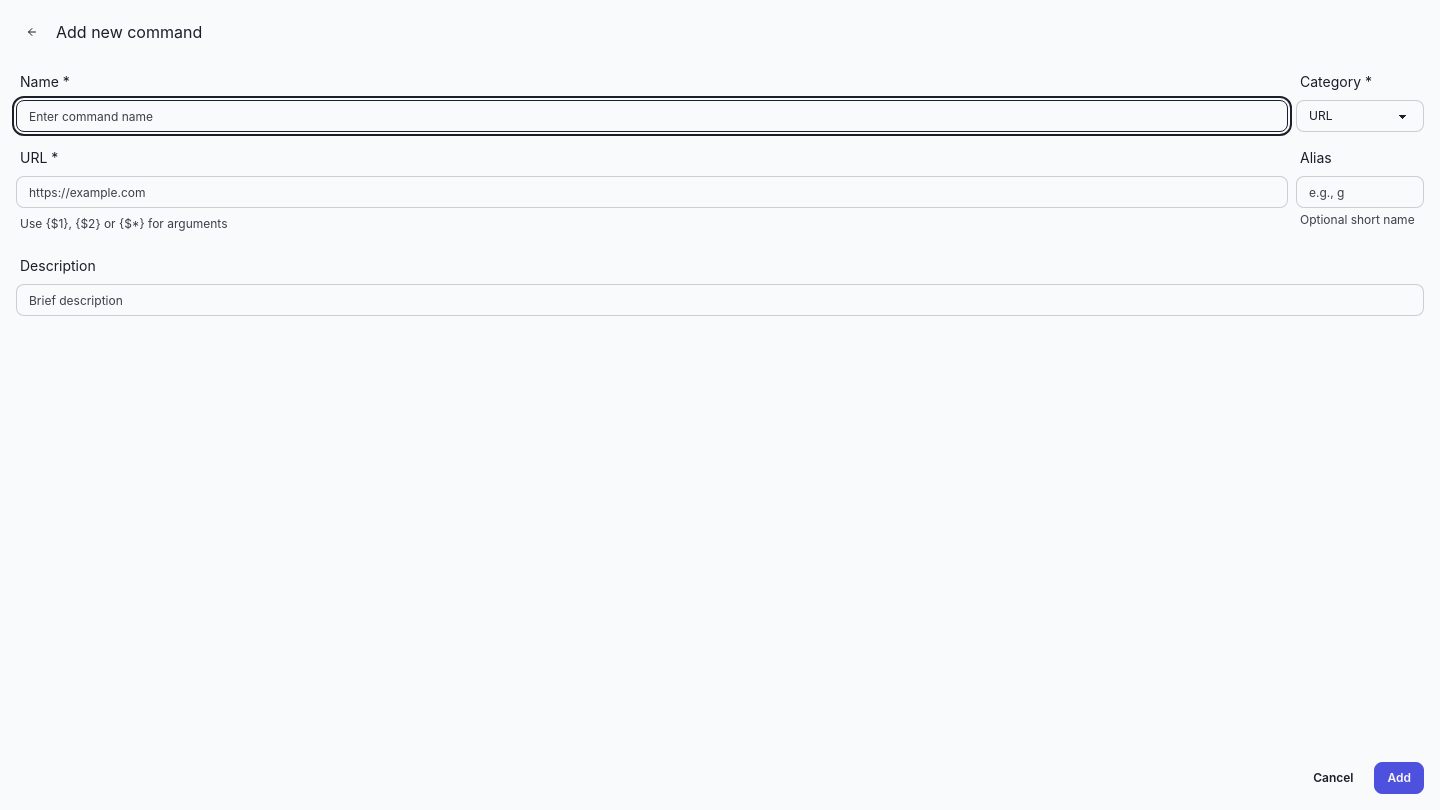
Test: CommandForm leaving › asks before throwing away edits, and Keep editing stays
Type "x" into the field labelled "Name *" at coordinates (652, 116), box [16,100,1288,132]
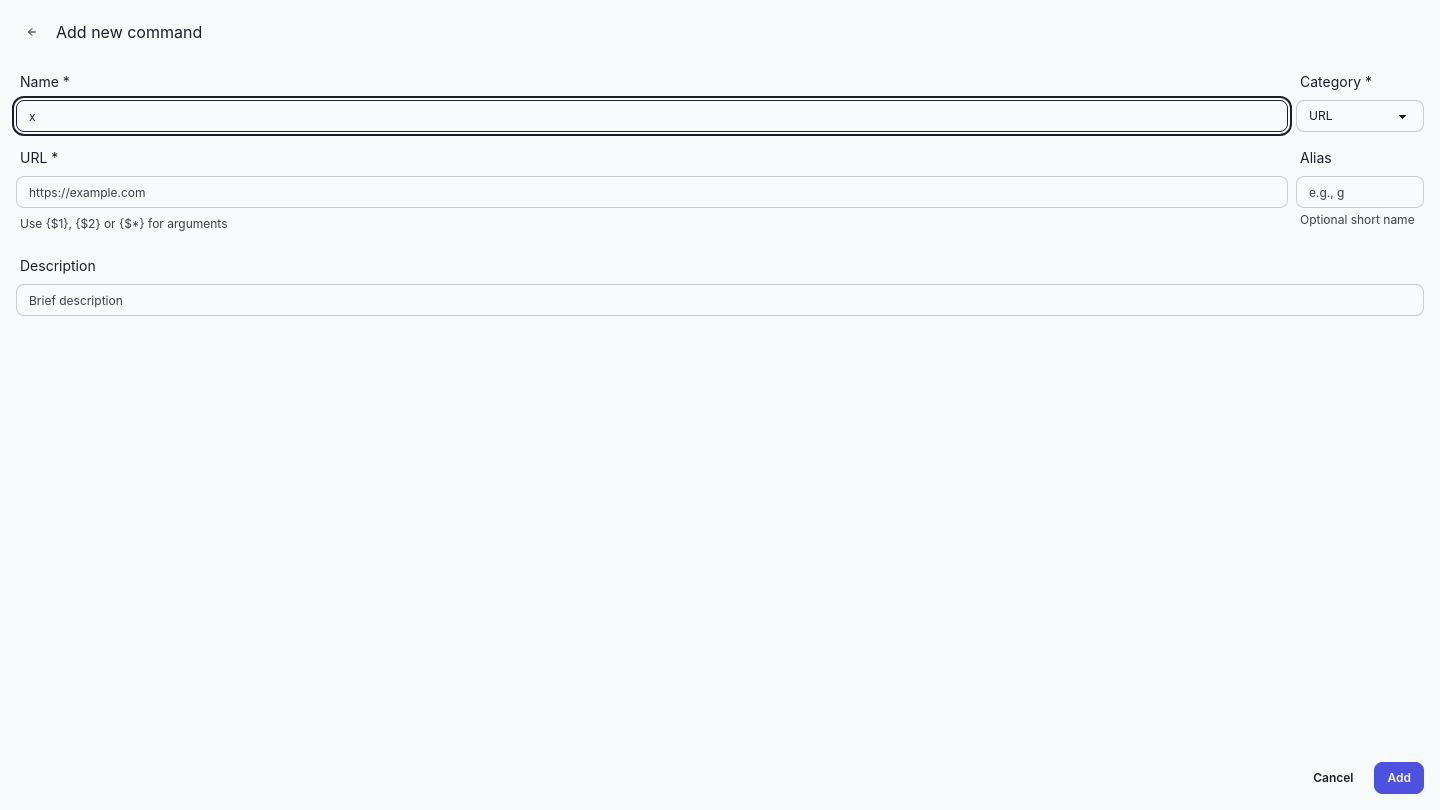
Press Escape
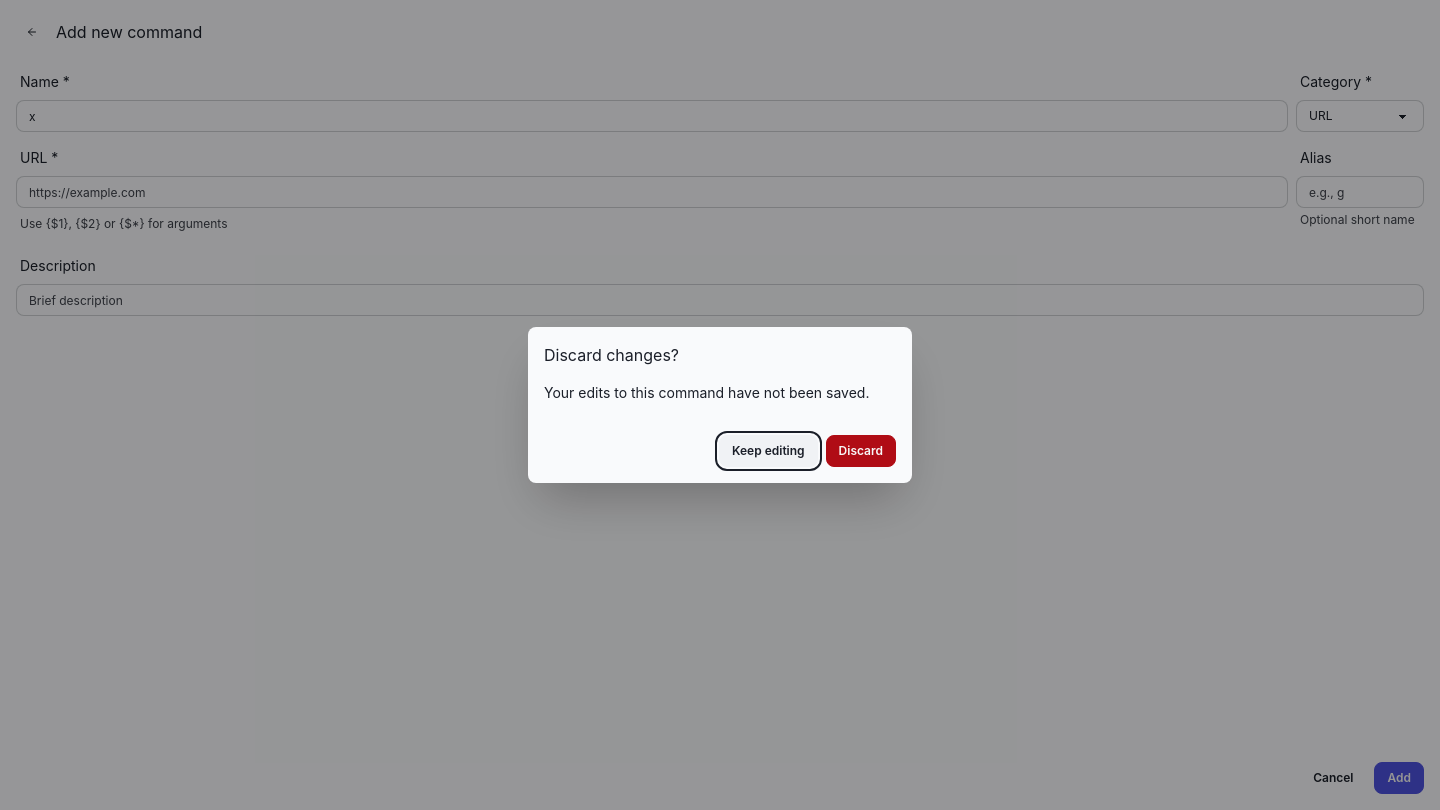
Now the dialog shows "Discard changes?", box [544,345,679,365]
Click the button "Keep editing" at coordinates (768, 451), box [719,435,818,467]
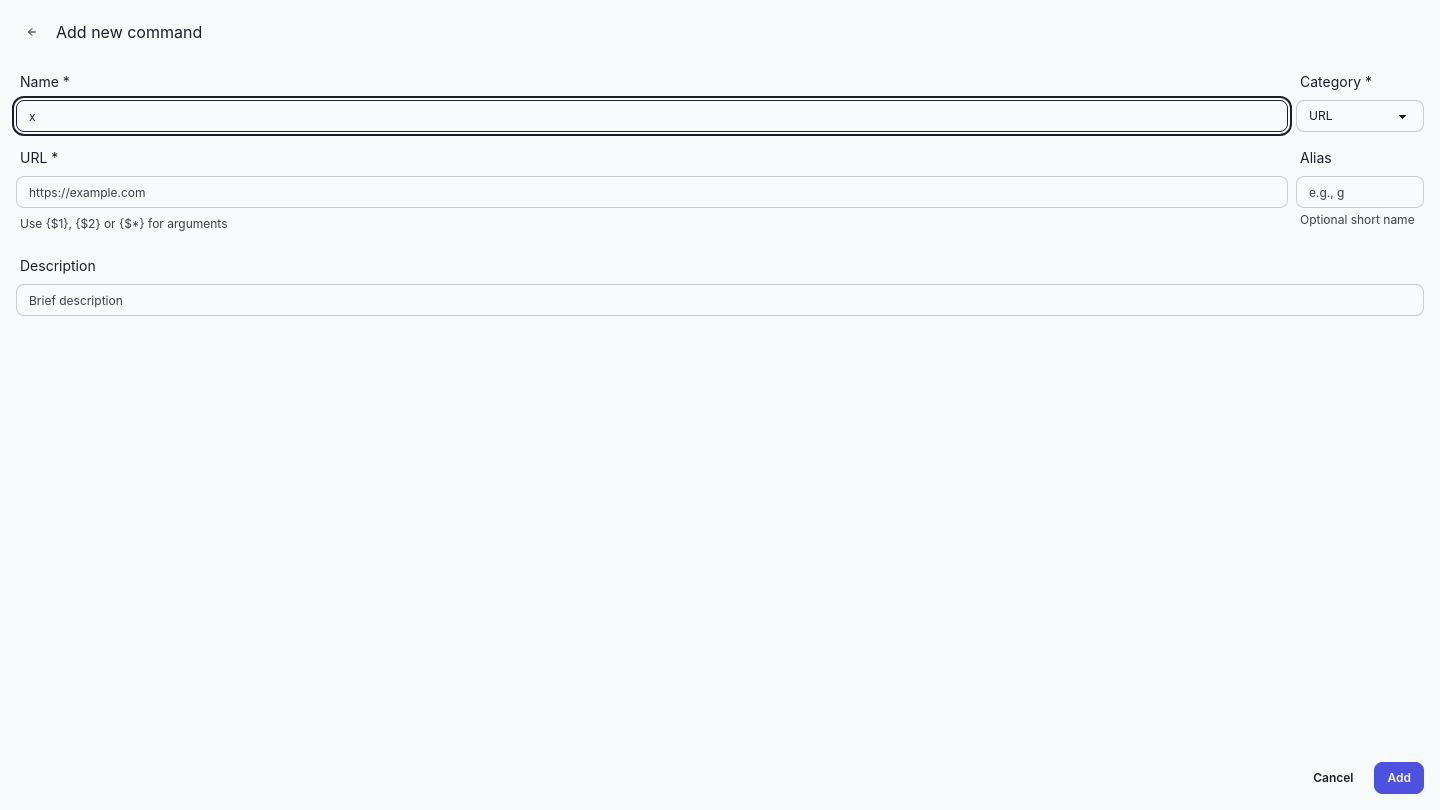
Now the dialog is gone
